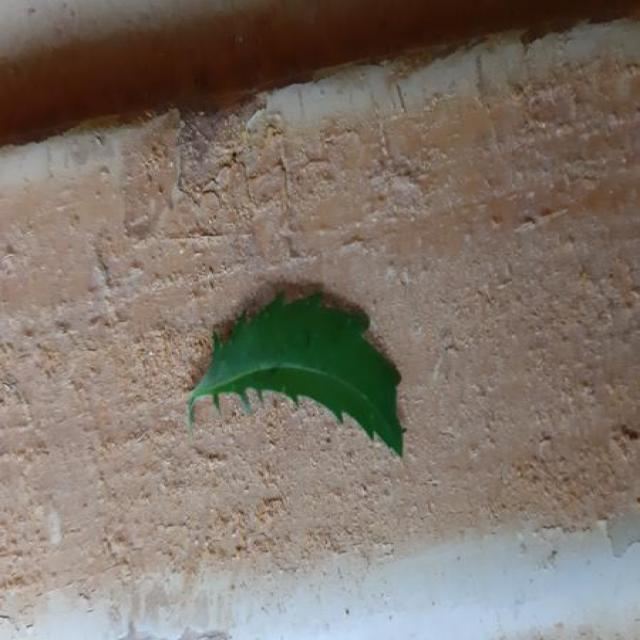marigold: (188, 291, 403, 454)
